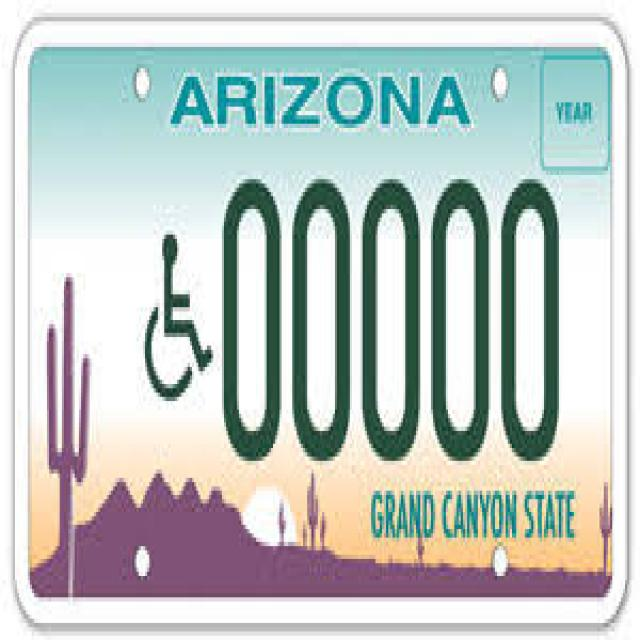car-handicap-placard: (138, 215, 217, 415)
